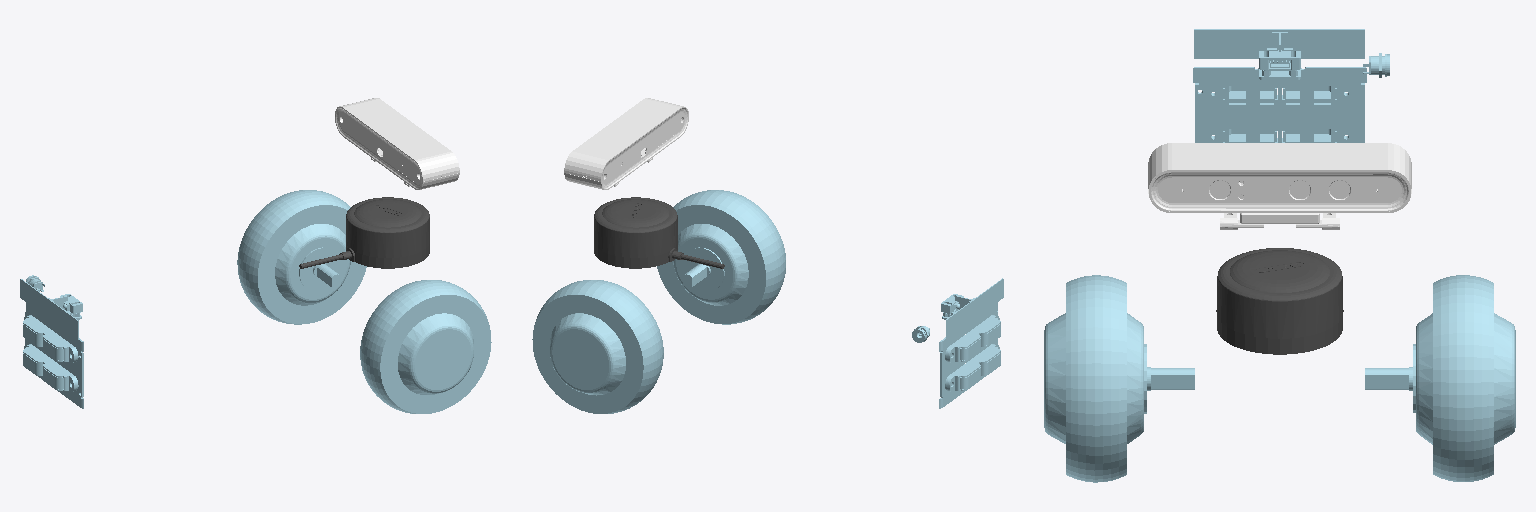
The robot description file, URDF, robot "S100_diff_robot":
<?xml version="1.0" encoding="utf-8"?>
<!-- This URDF was automatically created by SolidWorks to URDF Exporter! Originally created by [author] ([email redacted]) 
     Commit Version: 1.6.0-4-g7f85cfe  Build Version: 1.6.7995.38578
     For more information, please see http://wiki.ros.org/sw_urdf_exporter -->
<robot
  name="S100_diff_robot">
  <link
    name="base_link">
    <inertial>
      <origin
        xyz="-0.0251070620224986 0.00614048061720733 0.0609796911194103"
        rpy="0 0 0" />
      <mass
        value="3.04966217910594" />
      <inertia
        ixx="0.0170838543964428"
        ixy="8.97603896378E-06"
        ixz="-0.000103914094165596"
        iyy="0.022263579823766"
        iyz="-1.53816933043532E-07"
        izz="0.0374090687091319" />
    </inertial>
    <visual>
      <origin
        xyz="0 0 0"
        rpy="0 0 0" />
      <geometry>
        <mesh
          filename="package://wheeltec_robot_urdf/meshes/S100_diff_robot_meshes/base_link.STL" />
      </geometry>
      <material
        name="">
        <color
          rgba="1 1 1 1" />
      </material>
    </visual>
    <collision>
      <origin
        xyz="0 0 0"
        rpy="0 0 0" />
      <geometry>
        <mesh
          filename="package://wheeltec_robot_urdf/meshes/S100_diff_robot_meshes/base_link.STL" />
      </geometry>
    </collision>
  </link>
  <link
    name="camera_link">
    <inertial>
      <origin
        xyz="5.09861291242419E-08 -3.47825186031378E-07 1.07581484304342E-07"
        rpy="0 0 0" />
      <mass
        value="0.0559842504443458" />
      <inertia
        ixx="0.000130810956607069"
        ixy="1.20255882163315E-07"
        ixz="1.62335432754277E-06"
        iyy="1.91148632550972E-05"
        iyz="-2.80018266441135E-08"
        izz="0.000131387466610814" />
    </inertial>
    <visual>
      <origin
        xyz="0 0 0"
        rpy="0 0 0" />
      <geometry>
        <mesh
          filename="package://wheeltec_robot_urdf/meshes/S100_diff_robot_meshes/camera_link.STL" />
      </geometry>
      <material
        name="">
        <color
          rgba="1 1 1 1" />
      </material>
    </visual>
    <collision>
      <origin
        xyz="0 0 0"
        rpy="0 0 0" />
      <geometry>
        <mesh
          filename="package://wheeltec_robot_urdf/meshes/S100_diff_robot_meshes/camera_link.STL" />
      </geometry>
    </collision>
  </link>
  <joint
    name="camera_joint"
    type="fixed">
    <origin
      xyz="0.168159832813867 7.79999967115969E-05 0.186704"
      rpy="0 0 0" />
    <parent
      link="base_link" />
    <child
      link="camera_link" />
    <axis
      xyz="0 0 0" />
  </joint>
  <link
    name="laser_link">
    <inertial>
      <origin
        xyz="0.0025063031131769 -4.56584106021334E-06 -0.0193246896050287"
        rpy="0 0 0" />
      <mass
        value="0.0374307357771753" />
      <inertia
        ixx="2.80476450261731E-05"
        ixy="-2.19900342508599E-09"
        ixz="1.07118438627127E-06"
        iyy="3.36164872401846E-05"
        iyz="6.83963621545873E-10"
        izz="4.50845485902709E-05" />
    </inertial>
    <visual>
      <origin
        xyz="0 0 0"
        rpy="0 0 0" />
      <geometry>
        <mesh
          filename="package://wheeltec_robot_urdf/meshes/S100_diff_robot_meshes/laser.STL" />
      </geometry>
      <material
        name="">
        <color
          rgba="0.376470588235294 0.376470588235294 0.376470588235294 1" />
      </material>
    </visual>
    <collision>
      <origin
        xyz="0 0 0"
        rpy="0 0 0" />
      <geometry>
        <mesh
          filename="package://wheeltec_robot_urdf/meshes/S100_diff_robot_meshes/laser.STL" />
      </geometry>
    </collision>
  </link>
  <joint
    name="laser_joint"
    type="fixed">
    <origin
      xyz="0.156198832813867 0 0.118431525059384"
      rpy="0 0 3.14159265358979" />
    <parent
      link="base_link" />
    <child
      link="laser_link" />
    <axis
      xyz="0 0 0" />
  </joint>
  <link
    name="lf_wheel_link">
    <inertial>
      <origin
        xyz="-5.20829168682013E-09 -4.4527808014394E-07 2.77555756156289E-17"
        rpy="0 0 0" />
      <mass
        value="0.595489655285518" />
      <inertia
        ixx="0.000649719212067496"
        ixy="-1.0192314240505E-10"
        ixz="-4.88390115836518E-23"
        iyy="0.001048172608967"
        iyz="-1.49485089493572E-19"
        izz="0.000649697264639401" />
    </inertial>
    <visual>
      <origin
        xyz="0 0 0"
        rpy="0 0 0" />
      <geometry>
        <mesh
          filename="package://wheeltec_robot_urdf/meshes/S100_diff_robot_meshes/lf_wheel_link.STL" />
      </geometry>
      <material
        name="">
        <color
          rgba="0.741176470588235 0.901960784313726 0.956862745098039 1" />
      </material>
    </visual>
    <collision>
      <origin
        xyz="0 0 0"
        rpy="0 0 0" />
      <geometry>
        <mesh
          filename="package://wheeltec_robot_urdf/meshes/S100_diff_robot_meshes/lf_wheel_link.STL" />
      </geometry>
    </collision>
  </link>
  <joint
    name="lf_wheel_joint"
    type="continuous">
    <origin
      xyz="0.130698832813868 0.115083999996712 0.035"
      rpy="0 0 0" />
    <parent
      link="base_link" />
    <child
      link="lf_wheel_link" />
    <axis
      xyz="0 1 0" />
  </joint>
  <link
    name="rf_wheel_link">
    <inertial>
      <origin
        xyz="-5.20829163130898E-09 4.45278080227207E-07 -2.77555756156289E-17"
        rpy="0 0 0" />
      <mass
        value="0.595489655285517" />
      <inertia
        ixx="0.000649719212067496"
        ixy="1.01923148006776E-10"
        ixz="4.28254399334126E-23"
        iyy="0.001048172608967"
        iyz="-1.50279014522297E-19"
        izz="0.000649697264639401" />
    </inertial>
    <visual>
      <origin
        xyz="0 0 0"
        rpy="0 0 0" />
      <geometry>
        <mesh
          filename="package://wheeltec_robot_urdf/meshes/S100_diff_robot_meshes/rf_wheel_link.STL" />
      </geometry>
      <material
        name="">
        <color
          rgba="0.741176470588235 0.901960784313726 0.956862745098039 1" />
      </material>
    </visual>
    <collision>
      <origin
        xyz="0 0 0"
        rpy="0 0 0" />
      <geometry>
        <mesh
          filename="package://wheeltec_robot_urdf/meshes/S100_diff_robot_meshes/rf_wheel_link.STL" />
      </geometry>
    </collision>
  </link>
  <joint
    name="rf_wheel_joint"
    type="continuous">
    <origin
      xyz="0.130698832813866 -0.115084000003288 0.035"
      rpy="0 0 0" />
    <parent
      link="base_link" />
    <child
      link="rf_wheel_link" />
    <axis
      xyz="0 -1 0" />
  </joint>
  <link
    name="recharge_link">
    <inertial>
      <origin
        xyz="0.00583105178285179 -0.0240208454934916 0.0444304401244179"
        rpy="0 0 0" />
      <mass
        value="0.00411313318852136" />
      <inertia
        ixx="2.15892449167341E-06"
        ixy="-5.31277368114172E-10"
        ixz="2.98032018347492E-10"
        iyy="1.08631853692317E-07"
        iyz="-5.53081160674339E-10"
        izz="2.0879889233084E-06" />
    </inertial>
    <visual>
      <origin
        xyz="0 0 0"
        rpy="0 0 0" />
      <geometry>
        <mesh
          filename="package://wheeltec_robot_urdf/meshes/S100_diff_robot_meshes/recharge_link.STL" />
      </geometry>
      <material
        name="">
        <color
          rgba="0.741176470588235 0.901960784313726 0.956862745098039 1" />
      </material>
    </visual>
    <collision>
      <origin
        xyz="0 0 0"
        rpy="0 0 0" />
      <geometry>
        <mesh
          filename="package://wheeltec_robot_urdf/meshes/S100_diff_robot_meshes/recharge_link.STL" />
      </geometry>
    </collision>
  </link>
  <joint
    name="recharge_joint"
    type="fixed">
    <origin
      xyz="-0.194551167186133 0 0.06025"
      rpy="0 0 3.14159265358979" />
    <parent
      link="base_link" />
    <child
      link="recharge_link" />
    <axis
      xyz="0 0 0" />
  </joint>
</robot>

--- Render facts (derived) ---
3 views of the same robot in one strip: view 1: azimuth 30°, elevation 25°; view 2: azimuth 150°, elevation 25°; view 3: azimuth 270°, elevation 25° (orthographic).
Robot: S100_diff_robot — 6 links, 5 joints (2 continuous, 3 fixed); root link base_link; default pose: every joint at zero.
Visible links, largest first — view 1: rf_wheel_link, lf_wheel_link, camera_link, recharge_link, laser_link; view 2: lf_wheel_link, rf_wheel_link, camera_link, recharge_link, laser_link; view 3: camera_link, recharge_link, rf_wheel_link, lf_wheel_link, laser_link.
Link boxes in pixels (box(x1,y1,x2,y2)): rf_wheel_link: box(360, 280, 491, 413); lf_wheel_link: box(237, 190, 366, 324); camera_link: box(335, 98, 459, 189); recharge_link: box(20, 275, 83, 408); laser_link: box(299, 197, 429, 268); lf_wheel_link: box(532, 280, 663, 413); rf_wheel_link: box(657, 190, 785, 324); camera_link: box(564, 98, 688, 189); recharge_link: box(912, 278, 1003, 408); laser_link: box(594, 197, 724, 268); camera_link: box(1148, 143, 1411, 229); recharge_link: box(1193, 29, 1389, 142); rf_wheel_link: box(1044, 275, 1194, 482); lf_wheel_link: box(1365, 275, 1515, 481); laser_link: box(1216, 248, 1343, 354).
Size in the robot's own frame: 0.4173 by 0.295 by 0.2352 metres.
Meshes: 6 distinct files referenced, 5 mesh visuals loaded (5 binary STL); not drawn: 1 (reference not matched to a file when rendering).